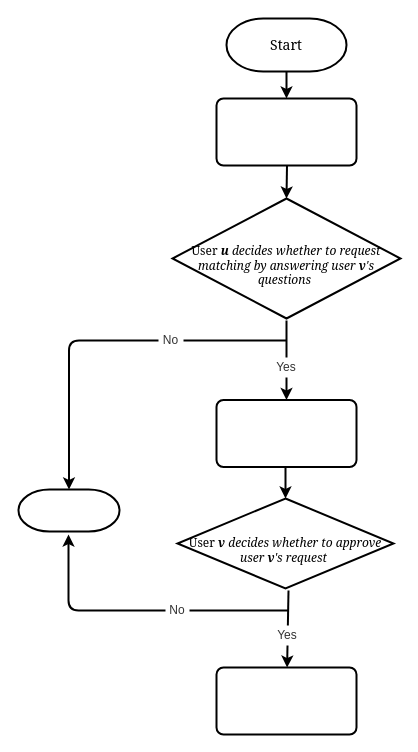
Image size: 418x752. Some labels were removed from this diagram. The box of each missing label's shape, as (x1, y1, x2, y2) in pixels:
End: (17, 488, 120, 532)
User u and user v are matched and can now start conversations: (215, 666, 357, 735)
User u answers user v 's questions: (215, 398, 357, 468)
User u clicks user v 's profile page: (215, 97, 357, 166)
